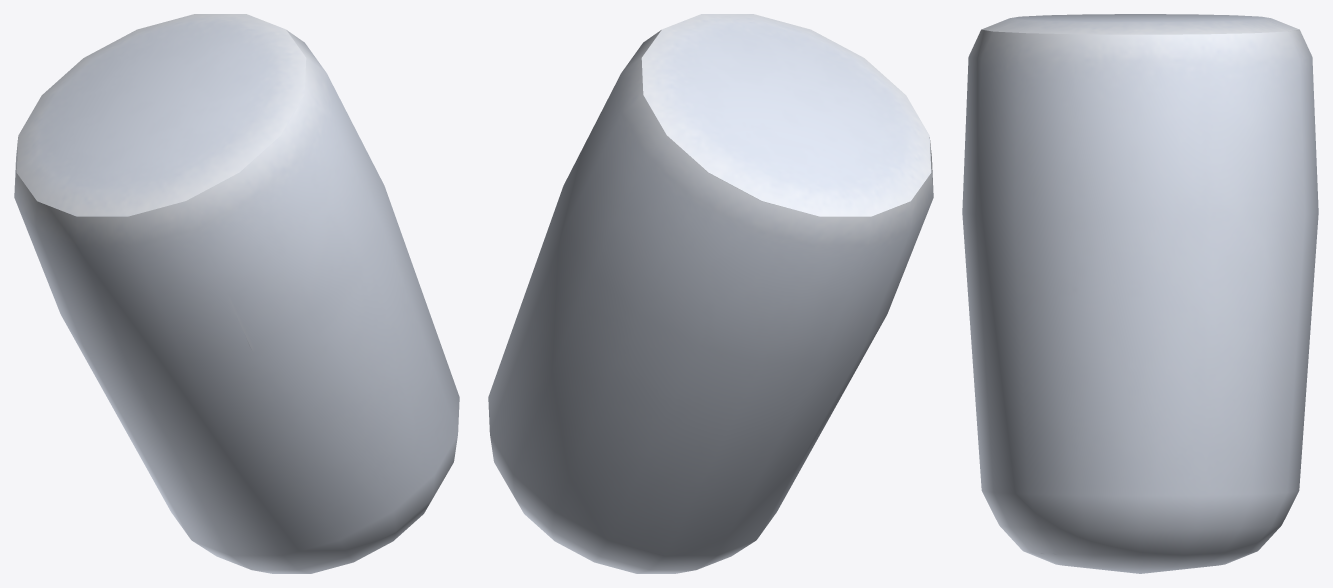
Rendered from upper_arm_r.glb.
The picture shows the model from 3 angles, left to right: view 1: azimuth 30°, elevation 25°; view 2: azimuth 150°, elevation 25°; view 3: azimuth 270°, elevation 25°; orthographic projection. The views are drawn at different scales.
Visible parts, largest first — view 1: upper_arm_r; view 2: upper_arm_r; view 3: upper_arm_r.
Boxes of the visible parts, x1,y1,x2,y2 form: upper_arm_r: (14,14,459,573); upper_arm_r: (488,14,933,573); upper_arm_r: (962,14,1318,573).
Bounding box in the file's own units: 0.1225 × 0.152 × 0.092.
1 material, 1 textured.
